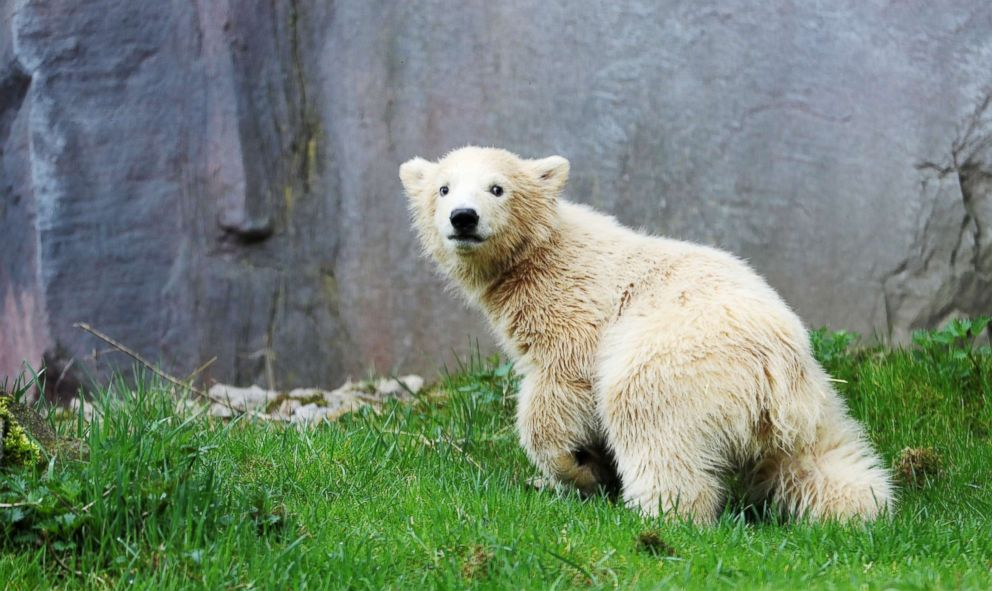Polar Bear: (385, 84, 911, 531)
